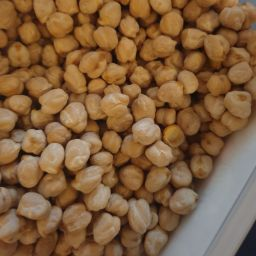White Chickpeas: (4, 6, 244, 256), (81, 14, 197, 126), (19, 103, 110, 241), (38, 138, 136, 242), (50, 36, 145, 120), (121, 99, 186, 221), (184, 27, 242, 97)
